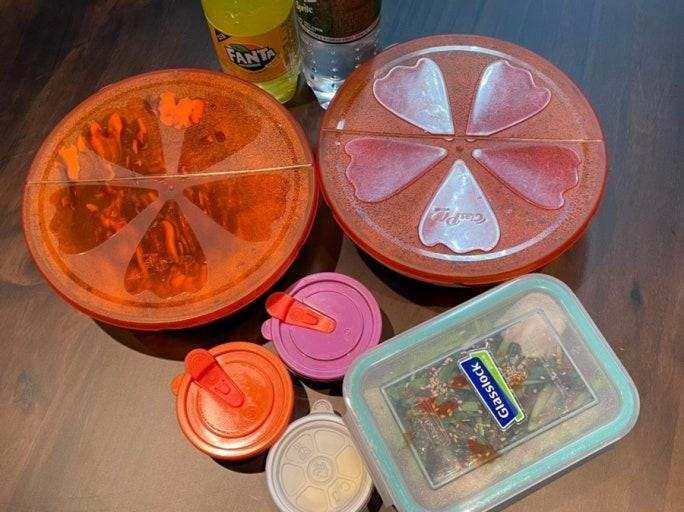Bottle: (201, 0, 300, 102), (295, 0, 380, 107)
Lunch Box: (24, 70, 316, 328), (319, 36, 606, 283), (344, 274, 638, 511), (175, 342, 293, 460), (262, 272, 381, 380)
cup: (267, 400, 371, 511)
